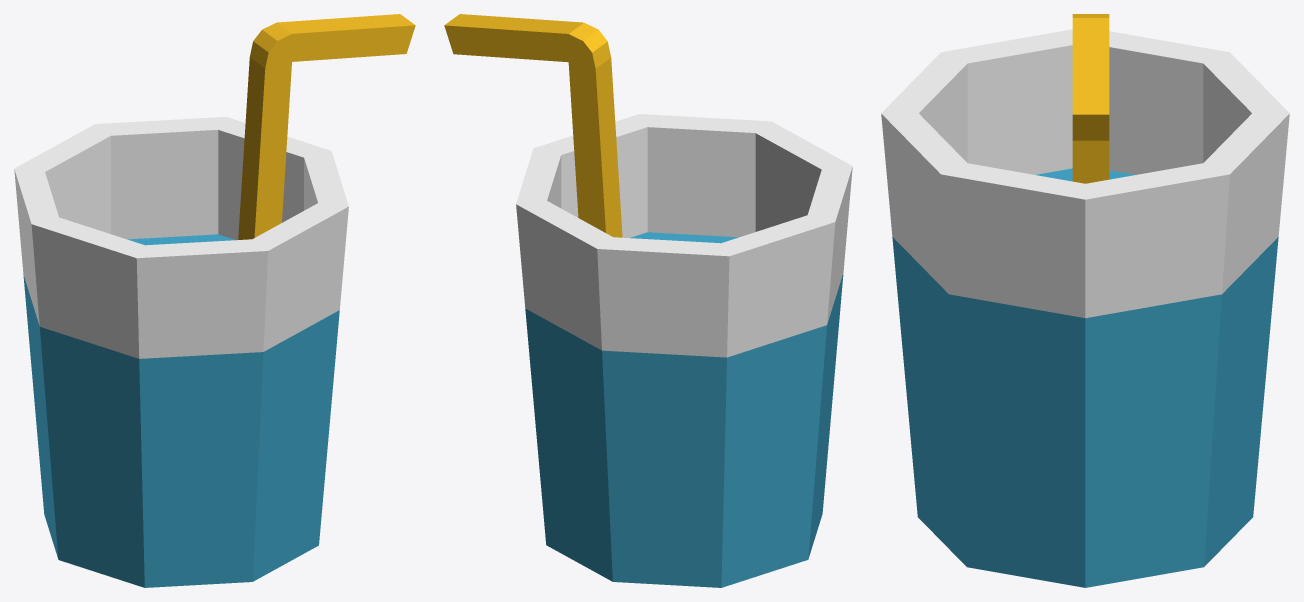
The model's file is Glass_tex.fbx.
The picture shows the model from 3 angles, left to right: view 1: azimuth 30°, elevation 25°; view 2: azimuth 150°, elevation 25°; view 3: azimuth 270°, elevation 25°; orthographic projection. The views are drawn at different scales.
Parts seen in each view (by area): view 1: Glass_tex; view 2: Glass_tex; view 3: Glass_tex.
Part boxes in pixels (x1=…): Glass_tex: x1=14, y1=14, x2=415, y2=587; Glass_tex: x1=444, y1=14, x2=852, y2=587; Glass_tex: x1=881, y1=14, x2=1289, y2=587.
Size of the model in its own units: 0.2168 by 0.2594 by 0.1718.
